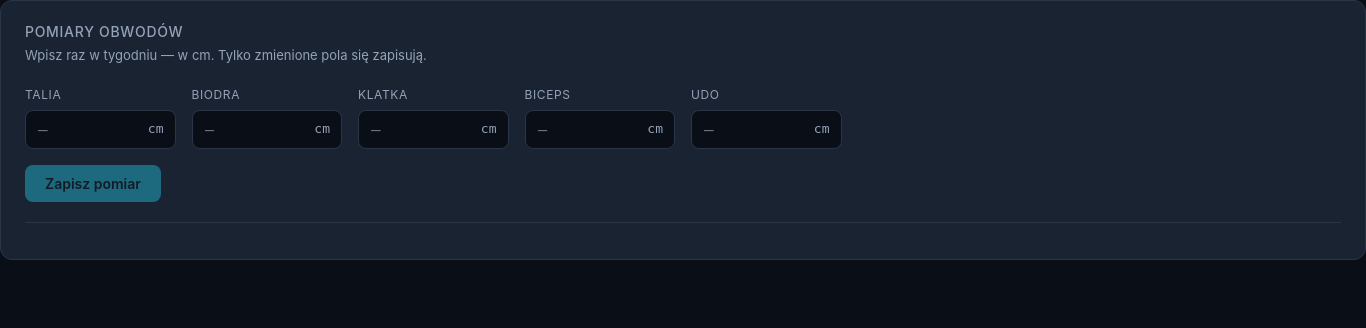
Test: BodyMeasurementsCard › happy submit — waist only — wysyła {date, waist_cm}
Type "85.5" into the number field labelled "Talia".
click(100, 129); type("85.5")  # box x1=25 y1=110 x2=176 y2=148
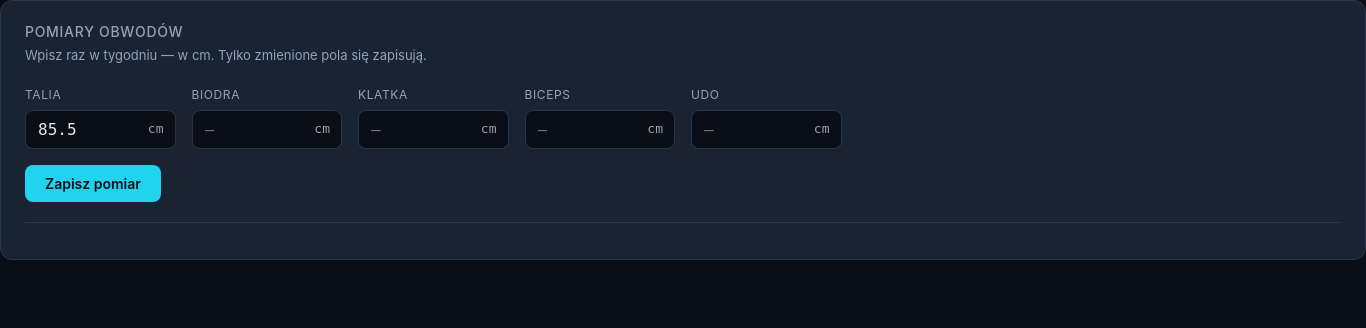
Click the button "Zapisz pomiar".
click(93, 183)  # box x1=25 y1=164 x2=161 y2=202
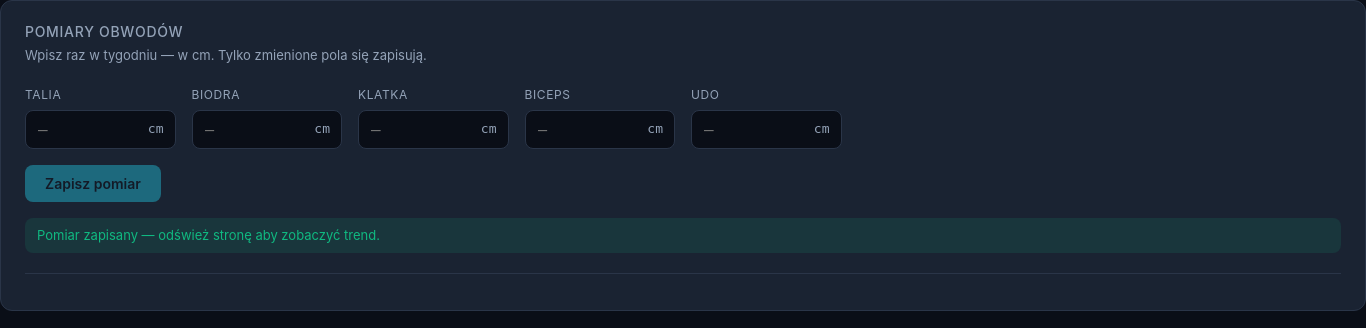
Expected: the message shows "Pomiar zapisany", x1=37 y1=226 x2=380 y2=242
